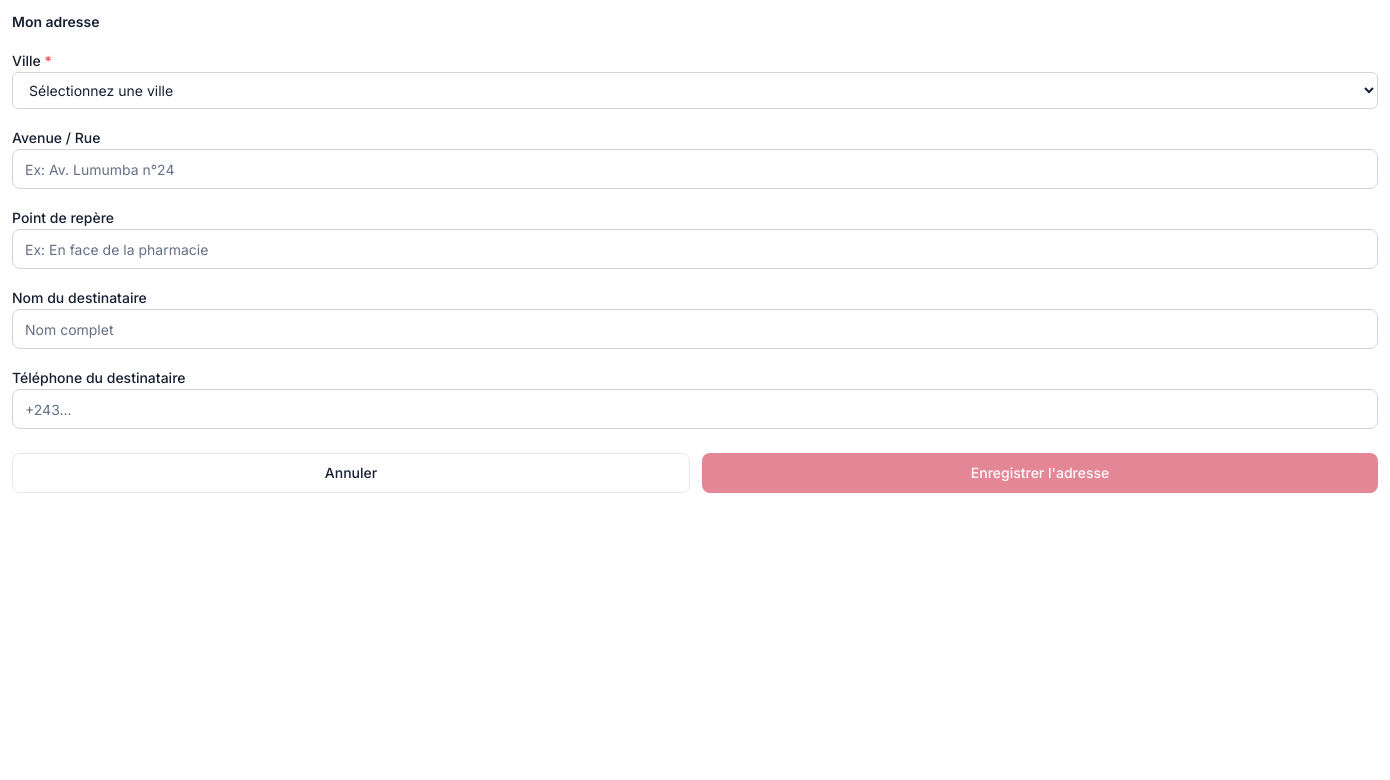
AddressForm — Ville → Commune cascade (server validates; the form must not fight it) › changing the city clears the chosen commune and reloads the list for the new city
Select "Lubumbashi (Haut-Katanga)" in the dropdown labelled "Ville *" at x=695, y=90, box [12,72,1378,109]
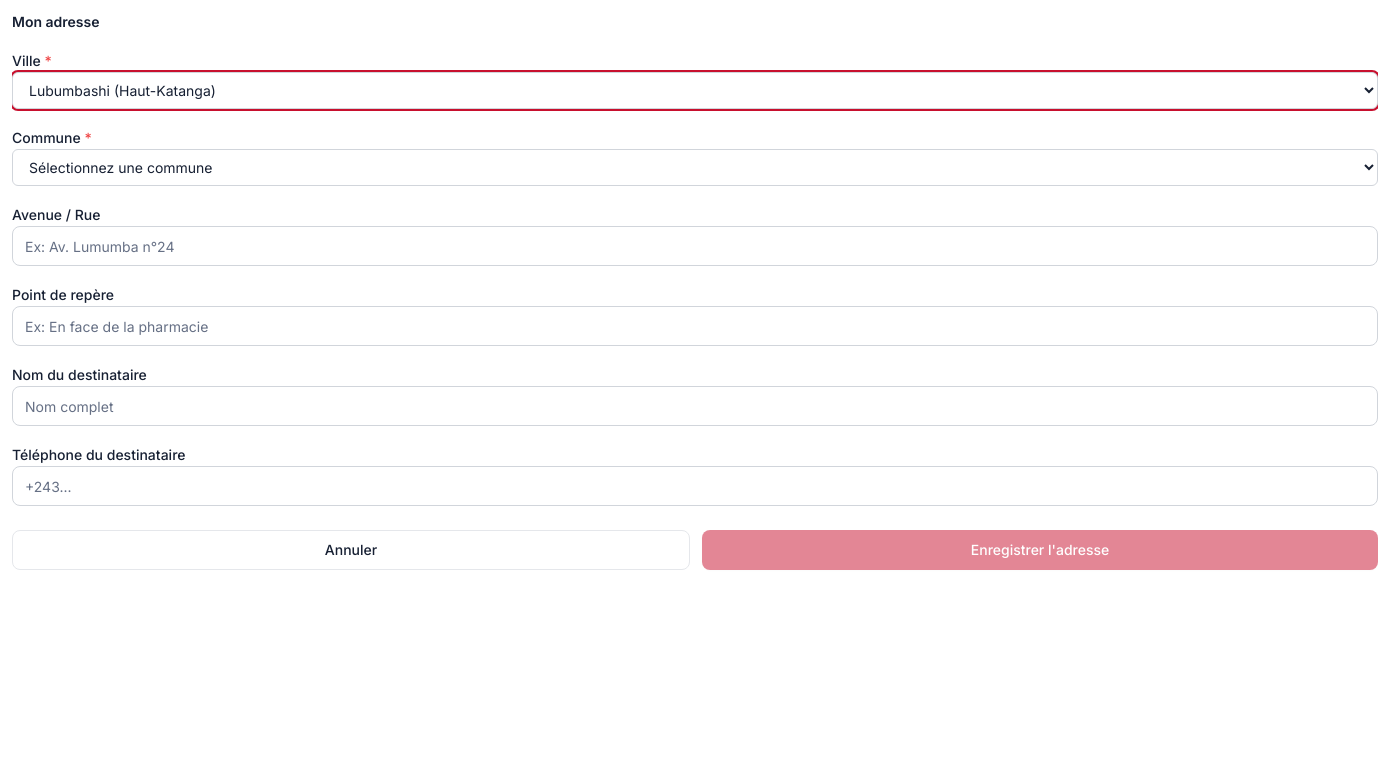
Select "Kampemba" in the dropdown labelled "Commune *" at x=695, y=168, box [12,149,1378,186]
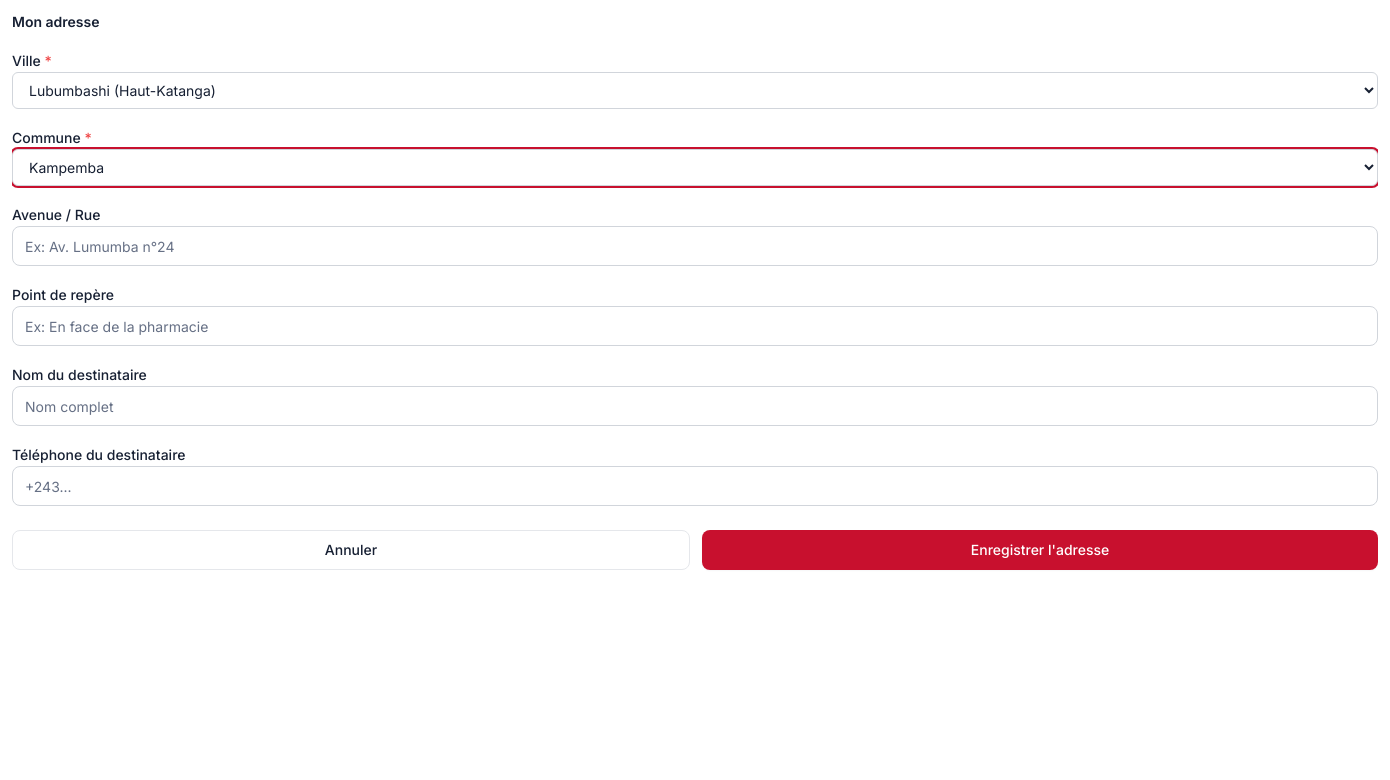
Select "Kolwezi (Lualaba)" in the dropdown labelled "Ville *" at x=695, y=90, box [12,72,1378,109]
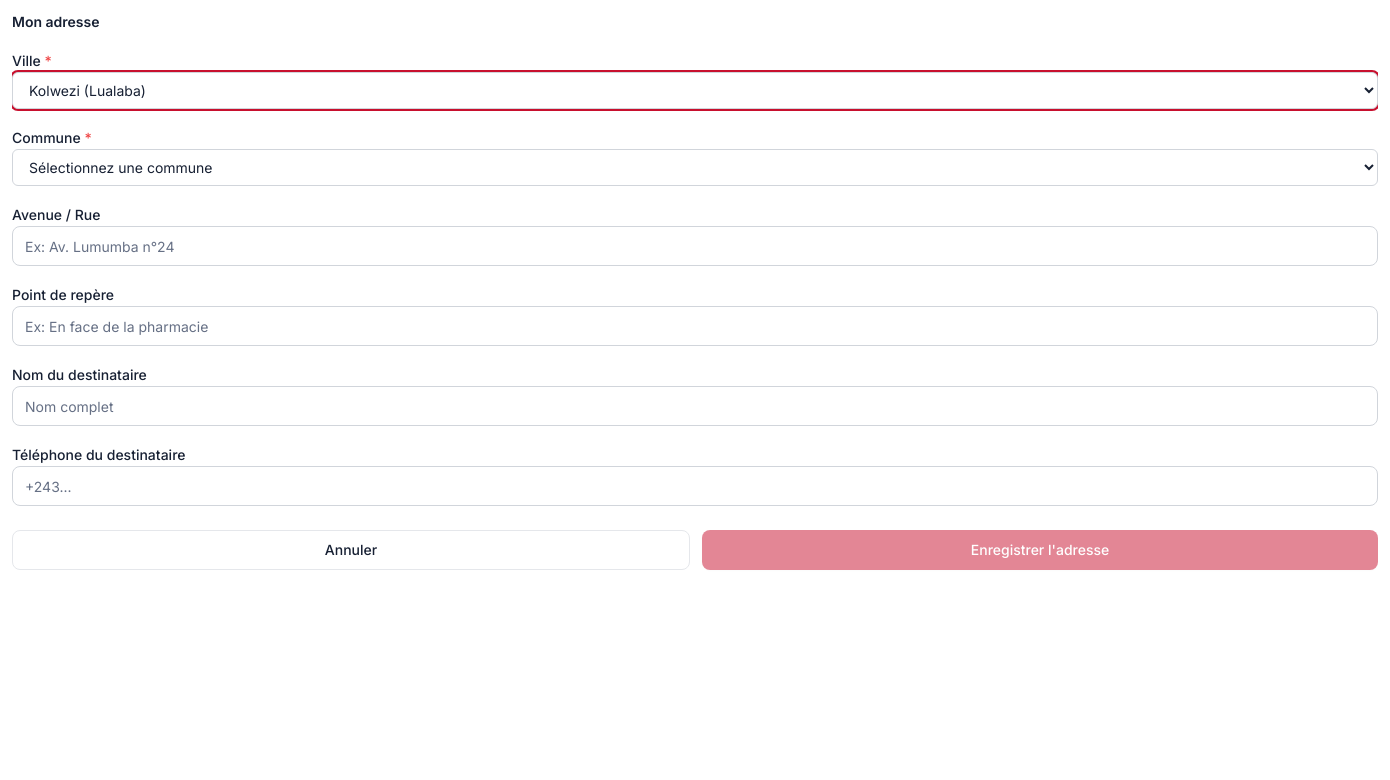
expect the dropdown labelled "Commune *" shows "Sélectionnez une commune": met, box [12,149,1378,186]
expect the button "Enregistrer l'adresse" is disabled: met, box [702,530,1378,570]
